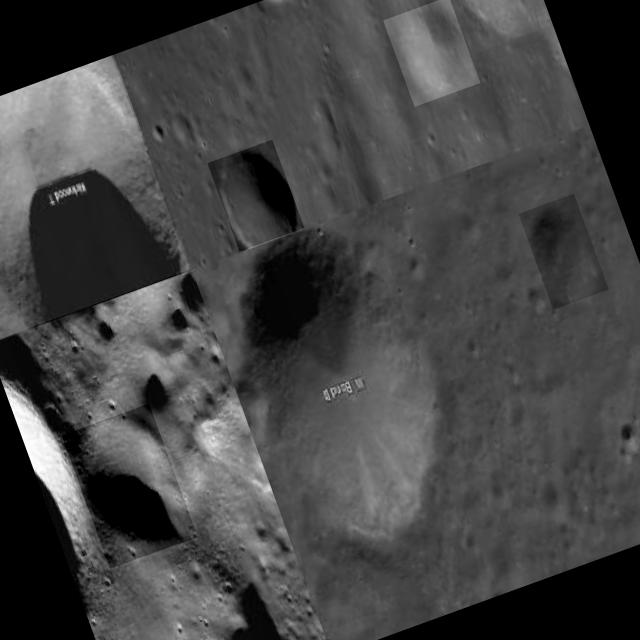crater: (200, 206, 478, 571), (0, 55, 190, 338), (62, 404, 198, 568), (208, 140, 304, 252), (519, 193, 609, 310), (383, 0, 481, 107), (436, 0, 552, 52), (616, 420, 640, 456)
